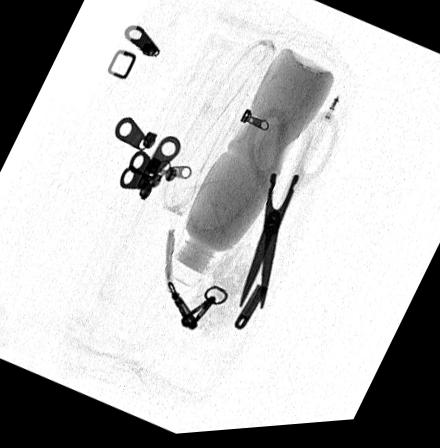Scissors: (233, 106, 339, 320)
